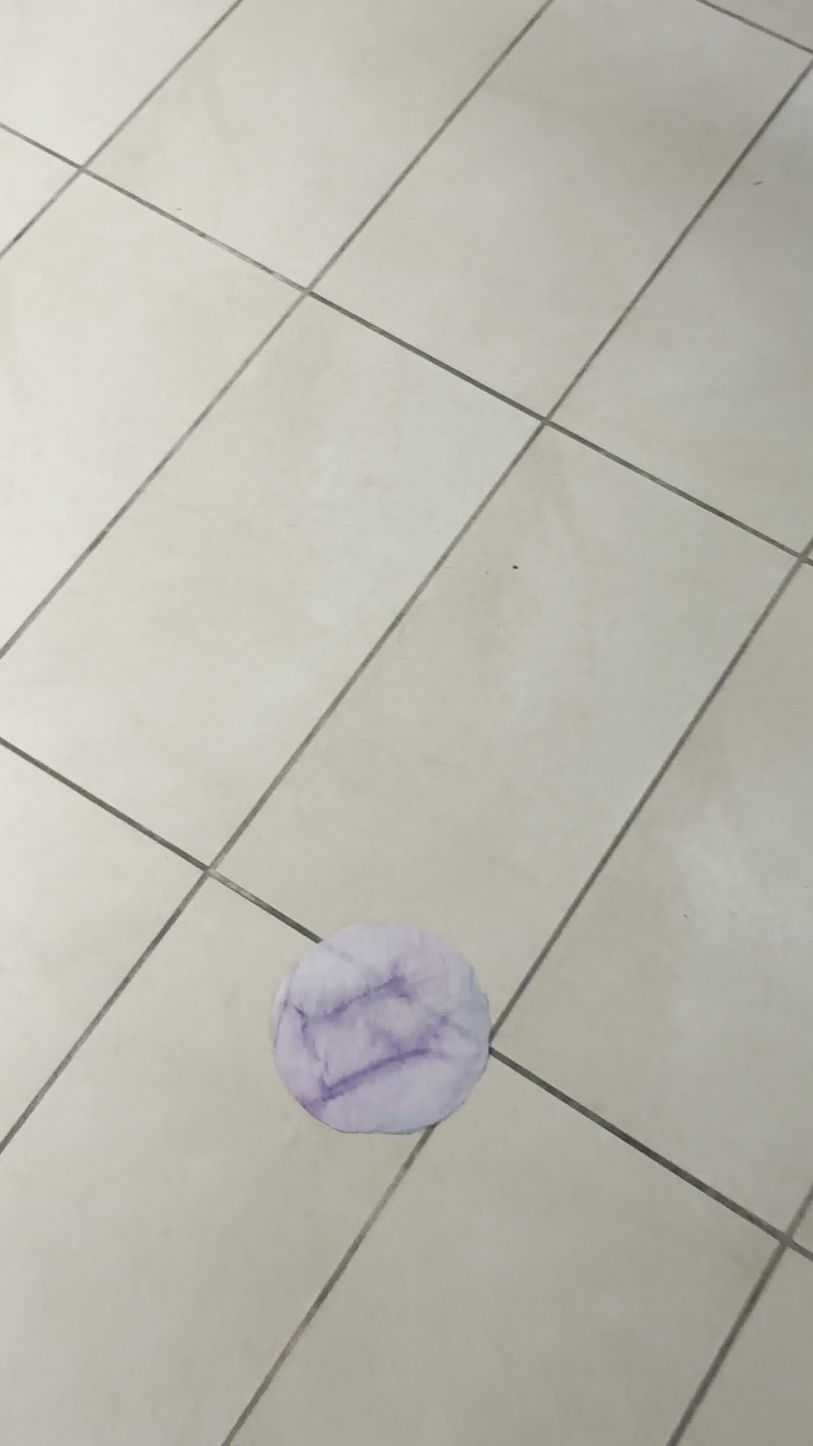Target: (271, 917, 492, 1134)
